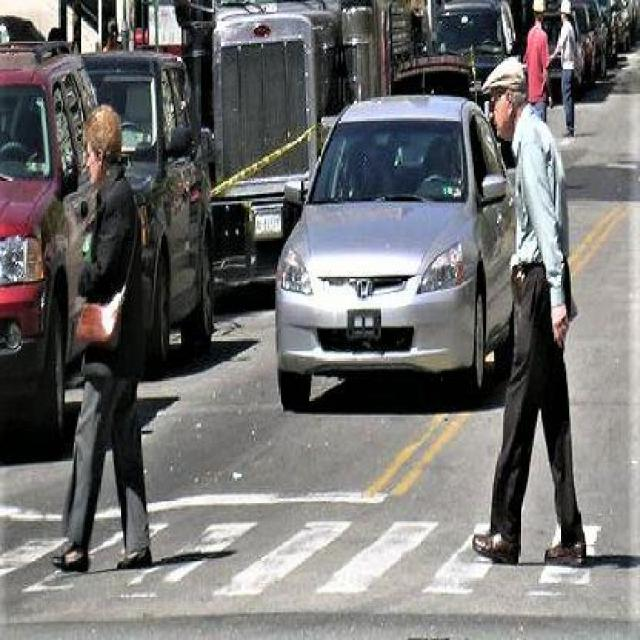Person: (473, 60, 592, 574), (47, 97, 158, 572), (553, 7, 582, 138), (531, 0, 551, 122)
